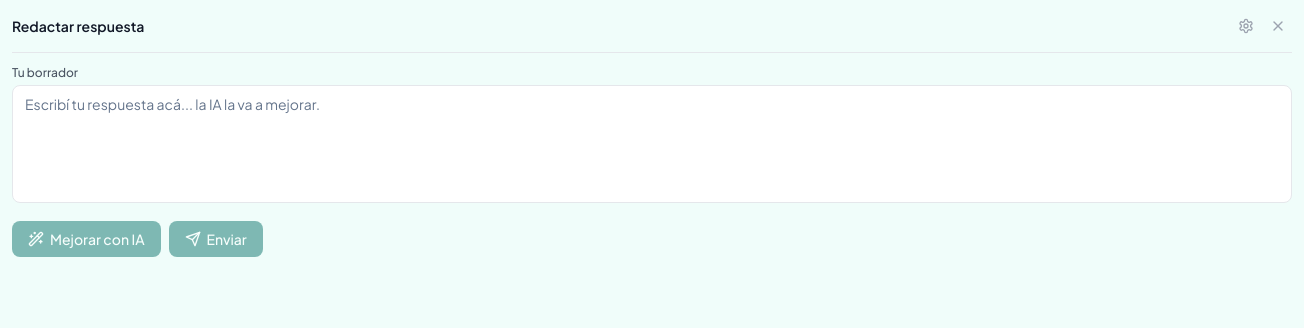
ReplyPanel › cancels the queued send when Deshacer is clicked
Type "Borrador directo" into the text box with placeholder "Escribí tu respuesta acá... la IA la va a mejorar." at x=652, y=144, box [12,85,1292,203]
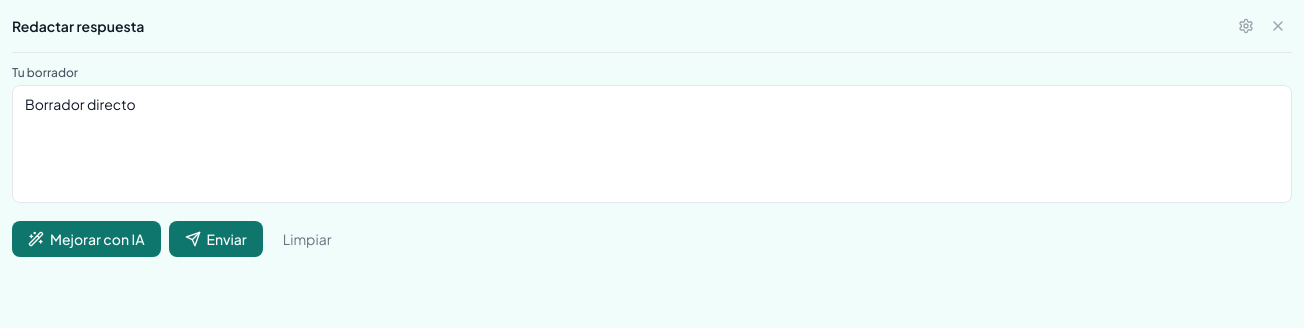
Click the button "Enviar" at x=216, y=239, box [169,221,263,257]
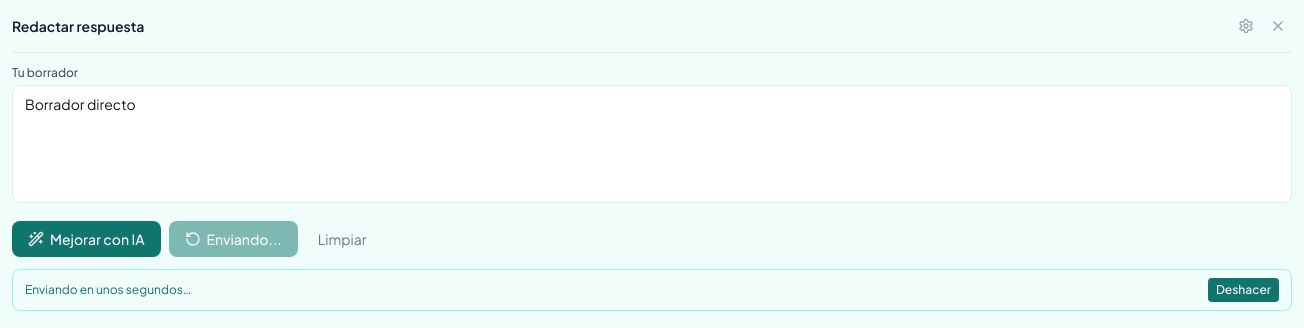
Click the button "Deshacer" at x=1243, y=290, box [1208,278,1279,302]
Wait 5000 ms
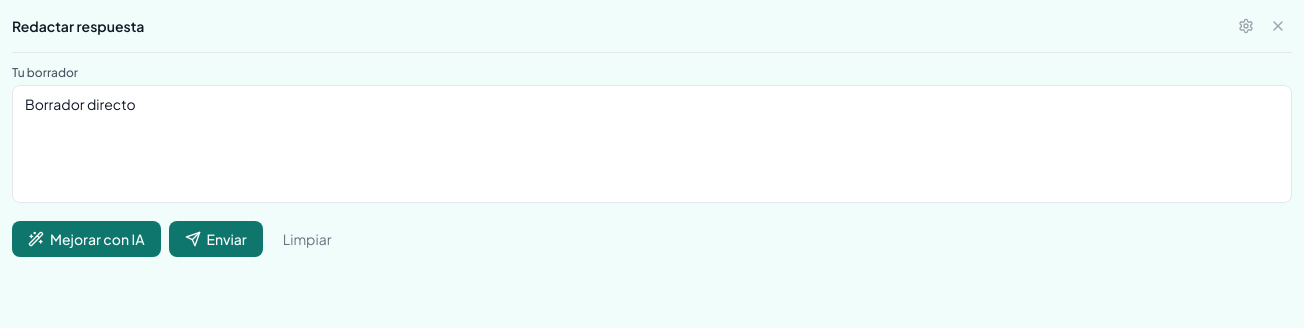
Check: the text "Enviando en unos segundos…" is gone
